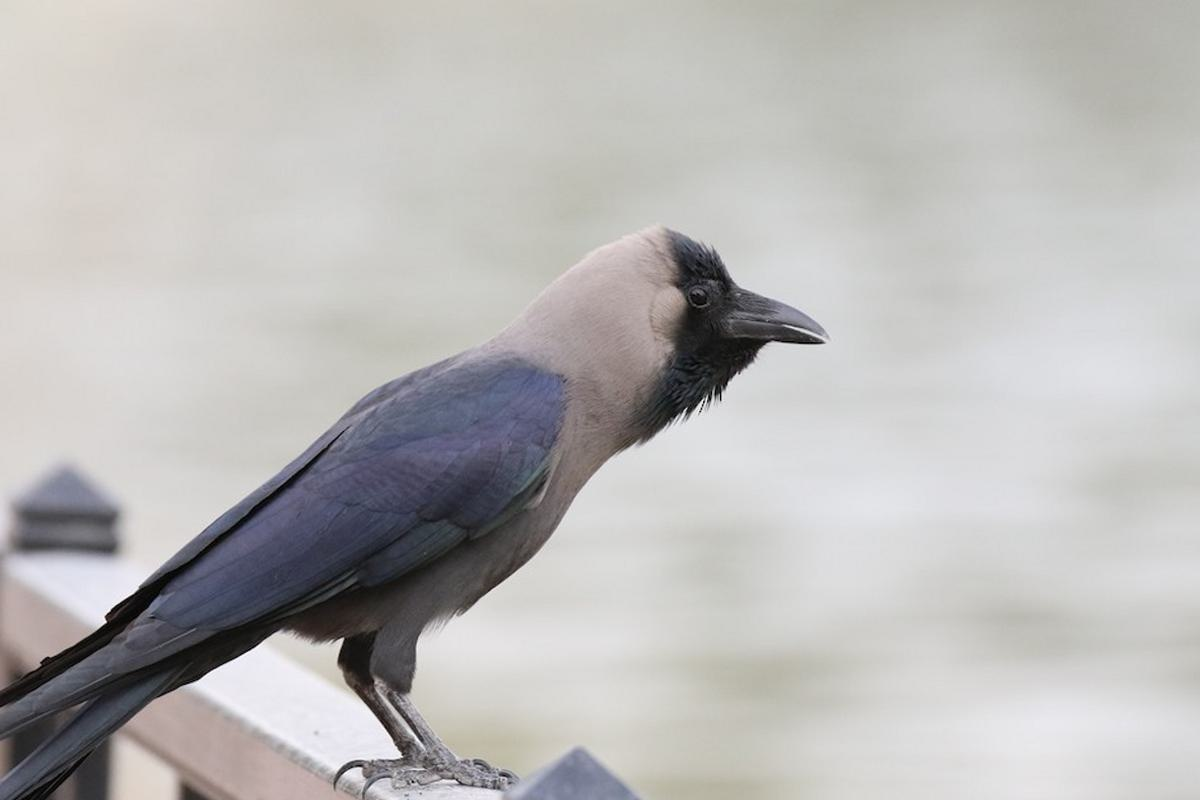crow: (1, 212, 839, 800)
